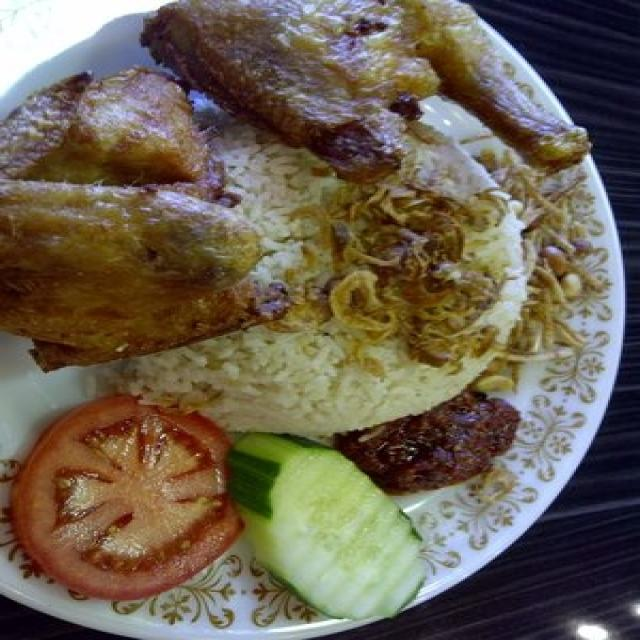米饭主食: (11, 12, 612, 618)
